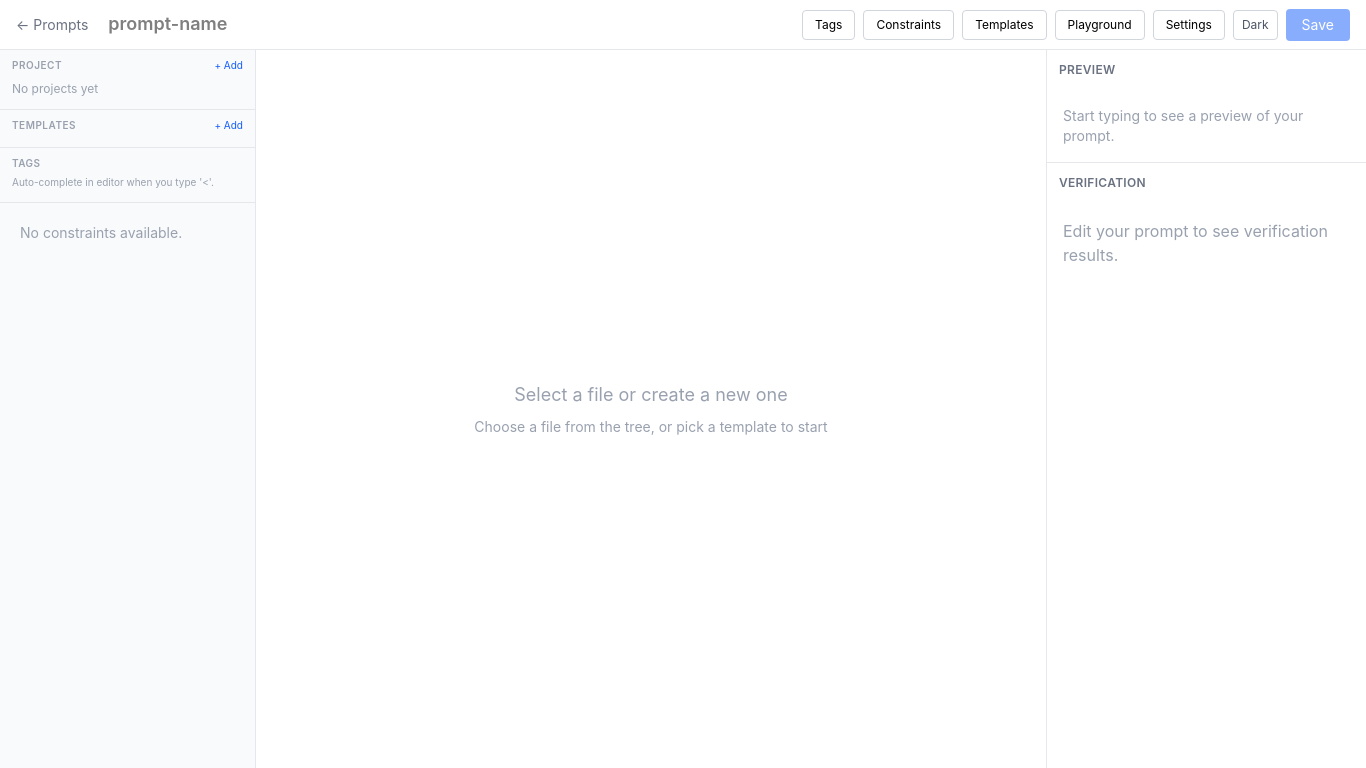
Test: PromptEditor › shows unsaved changes indicator after editing name
Type "test" into the field with test id "prompt-name-input" at (252, 24), box [104,8,400,41]
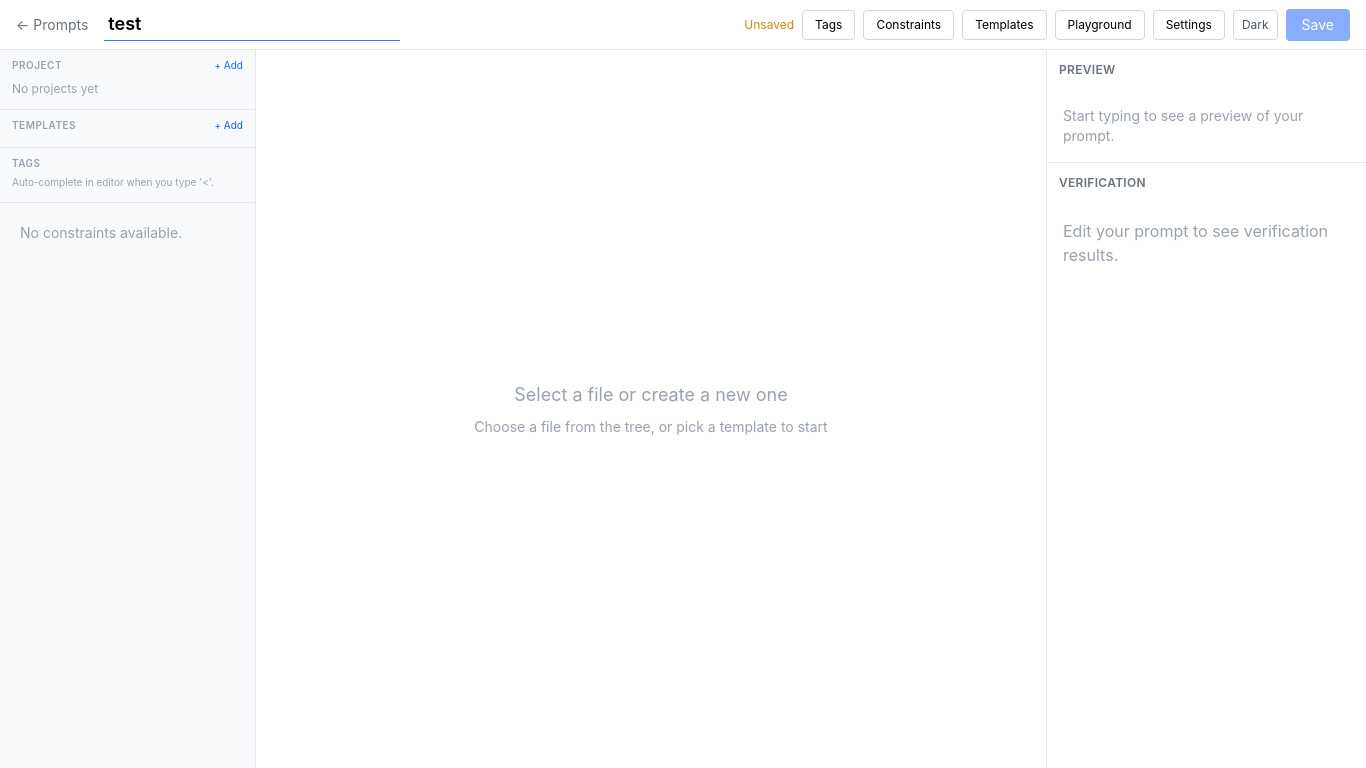
Now the text "Unsaved" is shown, box [744,16,794,32]
